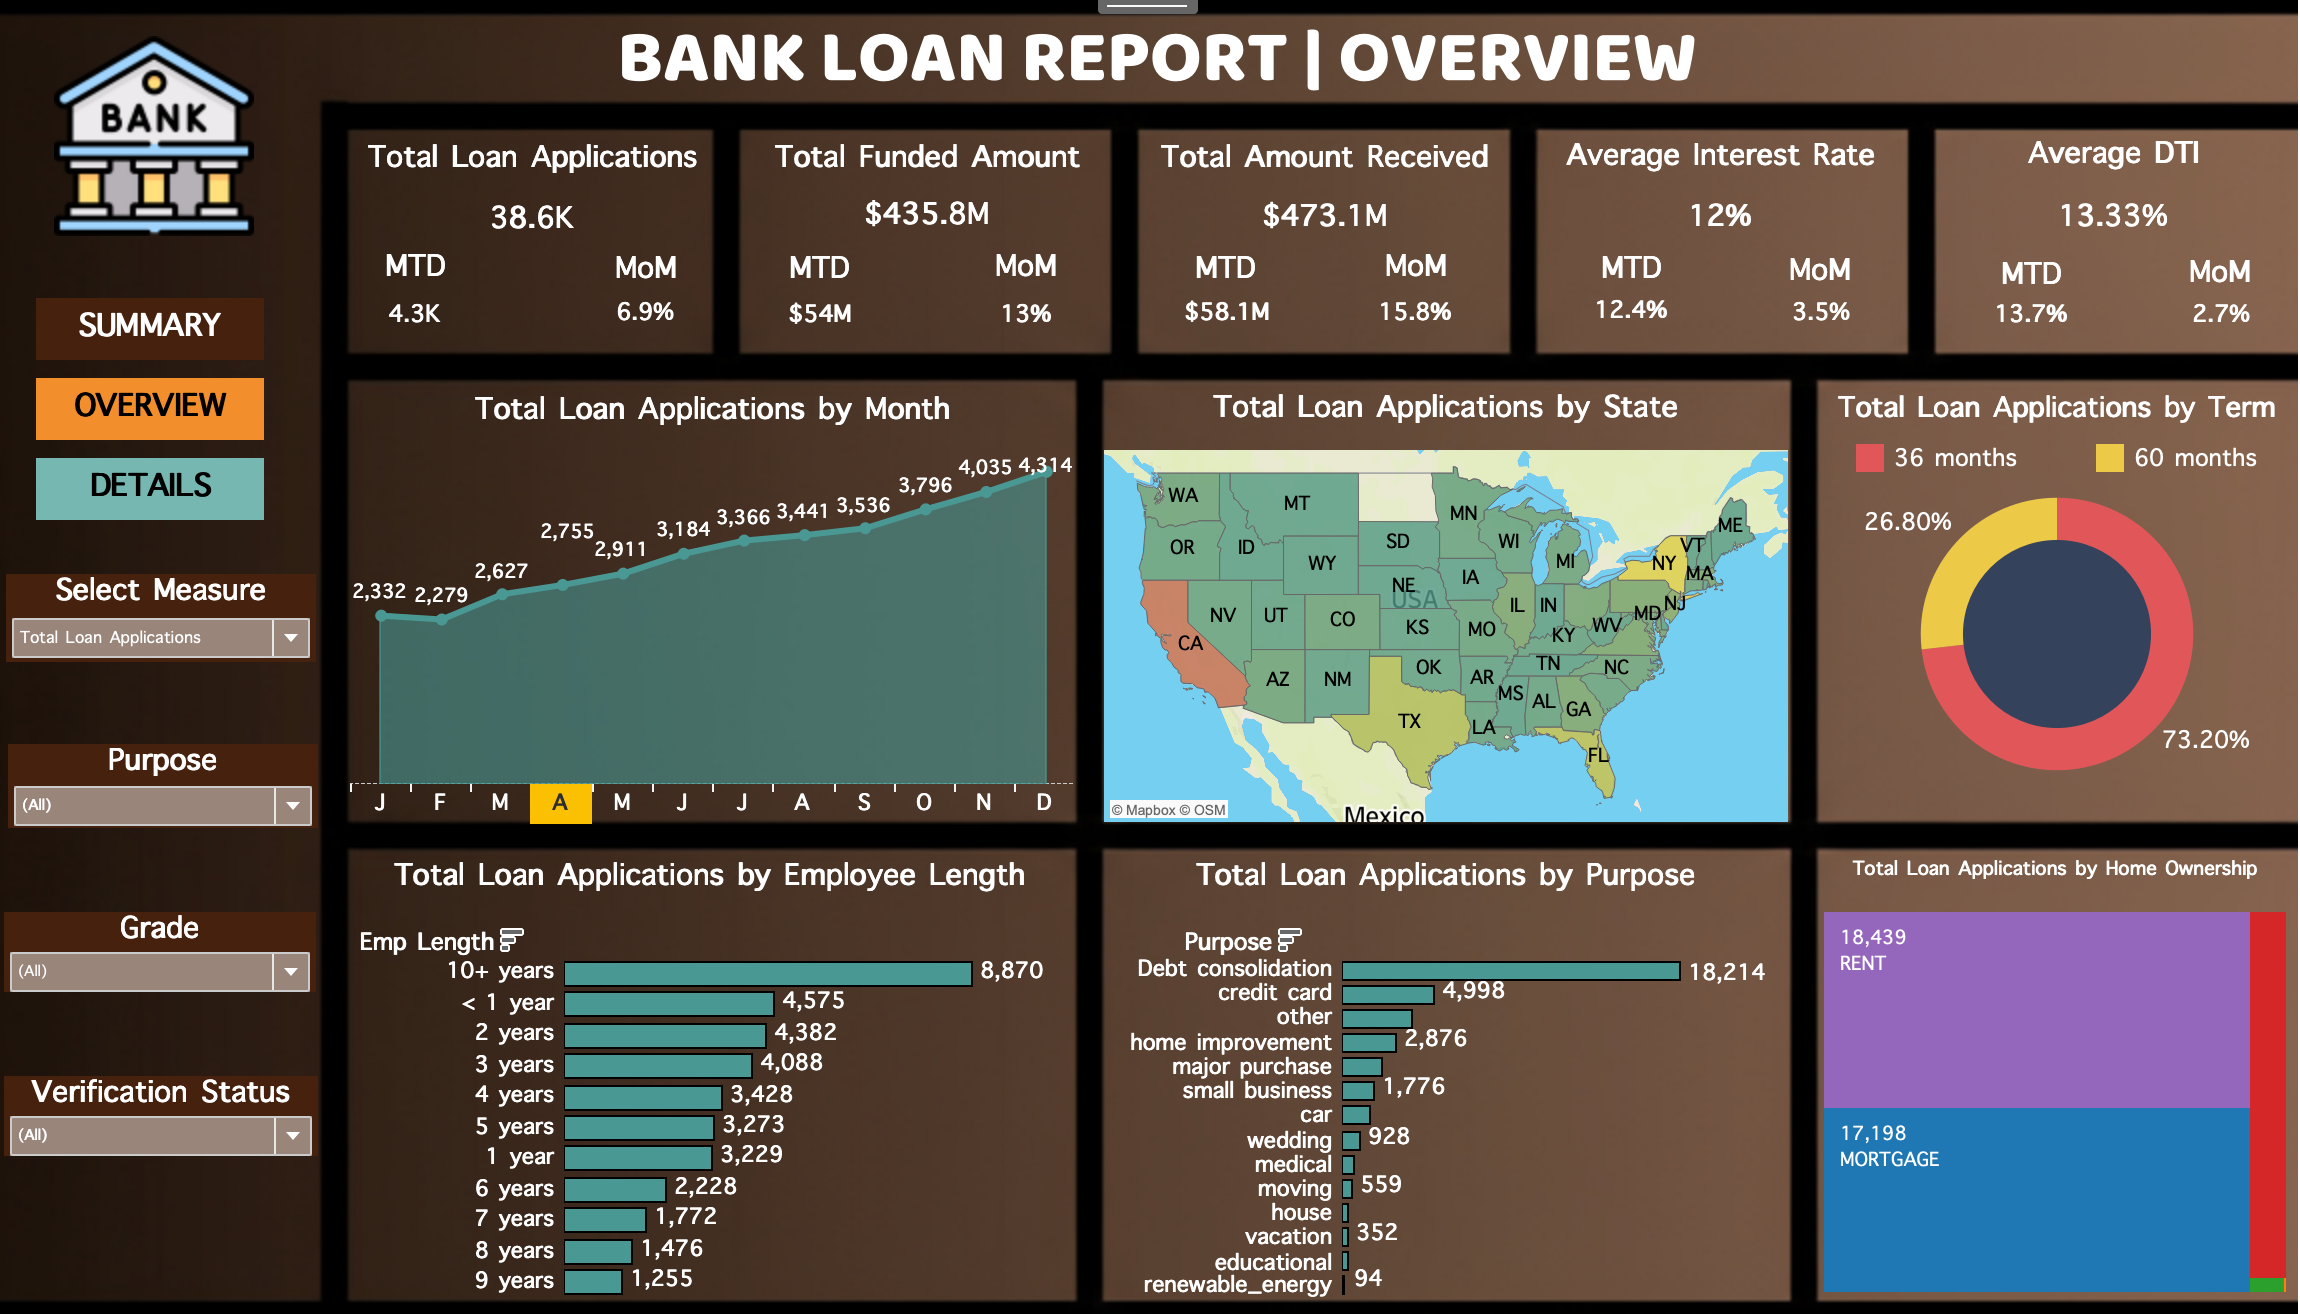

Layout of this report page (visuals, bound fields, positions):
{"tool":"tableau","page":{"name":"OVERVIEW","canvas":[1000,1000],"units":"permille","ordinal":1},"visuals":[{"type":"image","param":"Image/generated-image.png","box":[6.4,11.8,987.3,976.5]},{"type":"text","box":[247,27.9,512.3,64.6]},{"type":"image","param":"Image/bank_2830284.png","box":[58,44.1,94.5,146.8]},{"type":"worksheet","title":"Average DTI","mark":"Automatic","box":[811.8,111.6,143,85.2]},{"type":"worksheet","title":"Average Interest Rate","mark":"Automatic","box":[654.5,113.1,145.3,80.8]},{"type":"worksheet","title":"Total Loan Applications","mark":"Automatic","box":[184.3,114.5,142.2,80.8]},{"type":"worksheet","title":"Total Funded Amount","mark":"Automatic","box":[339.2,114.5,146.2,74.9]},{"type":"worksheet","title":"Total Amount Received","mark":"Automatic","box":[497.2,114.5,145.3,77.8]},{"type":"text","box":[185.9,195.3,46.1,39.6]},{"type":"text","box":[428.1,195.3,46.1,39.6]},{"type":"text","box":[583,195.3,46.1,39.6]},{"type":"text","box":[277.2,196.8,46.1,39.6]},{"type":"text","box":[346.3,196.8,46.1,39.6]},{"type":"text","box":[507.6,196.8,46.1,39.6]},{"type":"text","box":[668.5,196.8,46,39.6]},{"type":"text","box":[743.1,198.2,46,39.6]},{"type":"text","box":[902.5,199.7,46,39.6]},{"type":"text","box":[827.9,201.2,46,39.6]},{"type":"worksheet","title":"MTD Average Interest Rate","mark":"Automatic","box":[670.1,227.6,42,38.2]},{"type":"worksheet","title":"MTD Total Amount Received","mark":"Automatic","box":[503.6,229.1,54.8,38.2]},{"type":"worksheet","title":"MTD Total Funded Amount","mark":"Automatic","box":[349.5,230.5,40.5,38.2]},{"type":"worksheet","title":"MTD Total Loan Applications","mark":"Automatic","box":[184.3,232,49.2,35.2]},{"type":"worksheet","title":"MoM Loan Applications","mark":"Automatic","box":[282,232,35.7,33.8]},{"type":"worksheet","title":"MoM Total Funded Amount","mark":"Automatic","box":[431.3,232,39.7,35.2]},{"type":"worksheet","title":"MoM Total Amount Received","mark":"Automatic","box":[583,232,46.1,33.8]},{"type":"worksheet","title":"MoM Average Interest Rate","mark":"Automatic","box":[740.7,232,51.6,33.8]},{"type":"worksheet","title":"MoM Average DTI","mark":"Automatic","box":[903.2,233.5,46,32.3]},{"type":"worksheet","title":"MTD Average DTI","mark":"Automatic","box":[828.7,235,43.6,29.4]},{"type":"dashboard-object","box":[58,236.4,90.5,45.5]},{"type":"dashboard-object","box":[58,295.2,90.5,45.5]},{"type":"worksheet","title":"State","mark":"Multipolygon","box":[482.1,298.1,271.6,323.1]},{"type":"worksheet","title":"Month","mark":"Area","rows":["Calculation_93097906204229632","Calculation_93097906204229632"],"cols":["issue_date"],"box":[182.7,299.6,288.3,323.1]},{"type":"worksheet","title":"Term","mark":"Pie","rows":["Calculation_643592591931850753","Calculation_643592591931949059"],"box":[766.5,299.6,188.2,318.7]},{"type":"legend","title":"Term","param":"[federated.1kewwyl1bnugki18qmdj51btraj1].[none:term:nk]","box":[778.4,339.2,204.9,35.2]},{"type":"dashboard-object","box":[58,353.9,90.5,45.5]},{"type":"parameter","param":"[Parameters].[Parameter 1]","box":[46.1,439.1,123.1,64.6]},{"type":"filter","title":"Average DTI","param":"[federated.1kewwyl1bnugki18qmdj51btraj1].[none:purpose:nk]","box":[46.9,563.9,123.1,61.7]},{"type":"worksheet","title":"Emp Length","mark":"Automatic","rows":["emp_length"],"cols":["Calculation_93097906204229632"],"box":[181.9,641.7,287.5,328.9]},{"type":"worksheet","title":"Purpose","mark":"Automatic","rows":["purpose"],"cols":["Calculation_93097906204229632"],"box":[481.3,641.7,273.2,330.4]},{"type":"worksheet","title":"Home Ownership","mark":"Automatic","box":[764.9,641.7,189.8,330.4]},{"type":"filter","title":"Average DTI","param":"[federated.1kewwyl1bnugki18qmdj51btraj1].[none:grade:nk]","box":[45.3,687.2,123.9,58.7]},{"type":"filter","title":"Average DTI","param":"[federated.1kewwyl1bnugki18qmdj51btraj1].[none:verification_status:nk]","box":[45.3,807.6,124.7,58.7]}]}

Visuals, with their boxes on the dashboard's canvas, which has no fixed pixel size, in thousandths of its width and height (x1, y1, x2, y2). These are canvas units, not pixel positions in the 2300x1314 screenshot, which may show the page scaled, cropped or inside an application window:
image: locate(6, 12, 994, 988)
text: locate(247, 28, 759, 92)
image: locate(58, 44, 152, 191)
"Average DTI" worksheet: locate(812, 112, 955, 197)
"Average Interest Rate" worksheet: locate(654, 113, 800, 194)
"Total Loan Applications" worksheet: locate(184, 114, 326, 195)
"Total Funded Amount" worksheet: locate(339, 114, 485, 189)
"Total Amount Received" worksheet: locate(497, 114, 642, 192)
text: locate(186, 195, 232, 235)
text: locate(428, 195, 474, 235)
text: locate(583, 195, 629, 235)
text: locate(277, 197, 323, 236)
text: locate(346, 197, 392, 236)
text: locate(508, 197, 554, 236)
text: locate(668, 197, 714, 236)
text: locate(743, 198, 789, 238)
text: locate(902, 200, 948, 239)
text: locate(828, 201, 874, 241)
"MTD Average Interest Rate" worksheet: locate(670, 228, 712, 266)
"MTD Total Amount Received" worksheet: locate(504, 229, 558, 267)
"MTD Total Funded Amount" worksheet: locate(350, 230, 390, 269)
"MTD Total Loan Applications" worksheet: locate(184, 232, 234, 267)
"MoM Loan Applications" worksheet: locate(282, 232, 318, 266)
"MoM Total Funded Amount" worksheet: locate(431, 232, 471, 267)
"MoM Total Amount Received" worksheet: locate(583, 232, 629, 266)
"MoM Average Interest Rate" worksheet: locate(741, 232, 792, 266)
"MoM Average DTI" worksheet: locate(903, 234, 949, 266)
"MTD Average DTI" worksheet: locate(829, 235, 872, 264)
dashboard-object: locate(58, 236, 148, 282)
dashboard-object: locate(58, 295, 148, 341)
"State" worksheet (Multipolygon marks): locate(482, 298, 754, 621)
"Month" worksheet (Area marks): locate(183, 300, 471, 623)
"Term" worksheet (Pie marks): locate(766, 300, 955, 618)
"Term" legend: locate(778, 339, 983, 374)
dashboard-object: locate(58, 354, 148, 399)
parameter: locate(46, 439, 169, 504)
"Average DTI" filter: locate(47, 564, 170, 626)
"Emp Length" worksheet: locate(182, 642, 469, 971)
"Purpose" worksheet: locate(481, 642, 754, 972)
"Home Ownership" worksheet: locate(765, 642, 955, 972)
"Average DTI" filter: locate(45, 687, 169, 746)
"Average DTI" filter: locate(45, 808, 170, 866)
